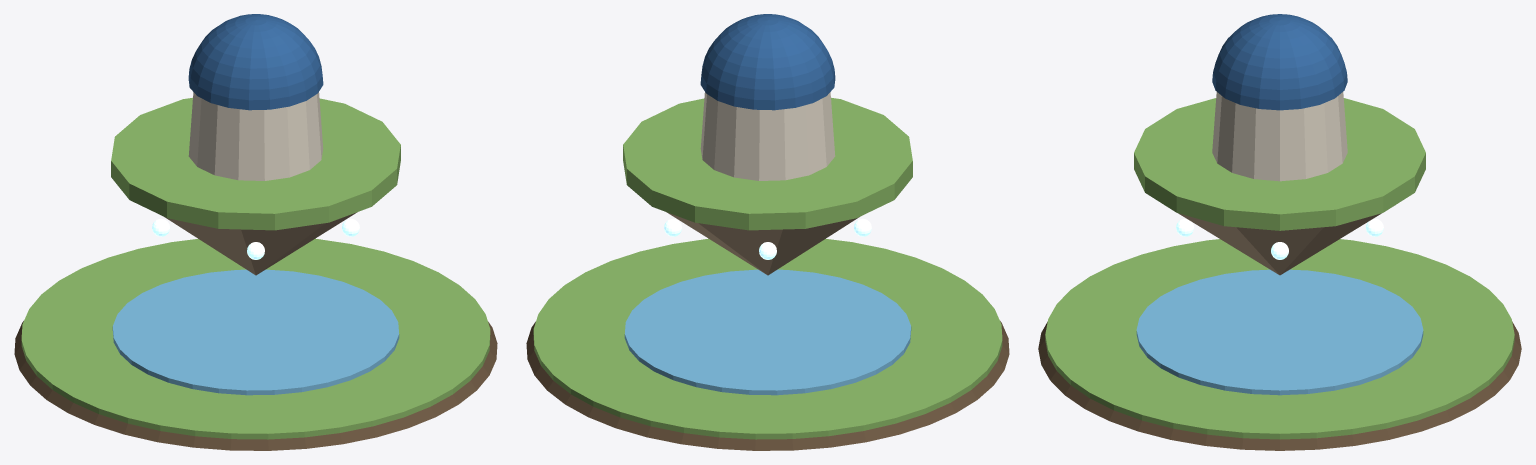
Rendered from floating-observatory.glb.
3 renders of one model, left to right at view 1: azimuth 30°, elevation 25°; view 2: azimuth 150°, elevation 25°; view 3: azimuth 270°, elevation 25°, orthographic.
Visible parts, largest first — view 1: floating-observatory; view 2: floating-observatory; view 3: floating-observatory.
Boxes of the visible parts, x1=… form: floating-observatory: x1=14, y1=14, x2=497, y2=450; floating-observatory: x1=526, y1=14, x2=1009, y2=450; floating-observatory: x1=1038, y1=14, x2=1521, y2=450.
Bounding box in the file's own units: 1.33 × 1 × 1.33.
